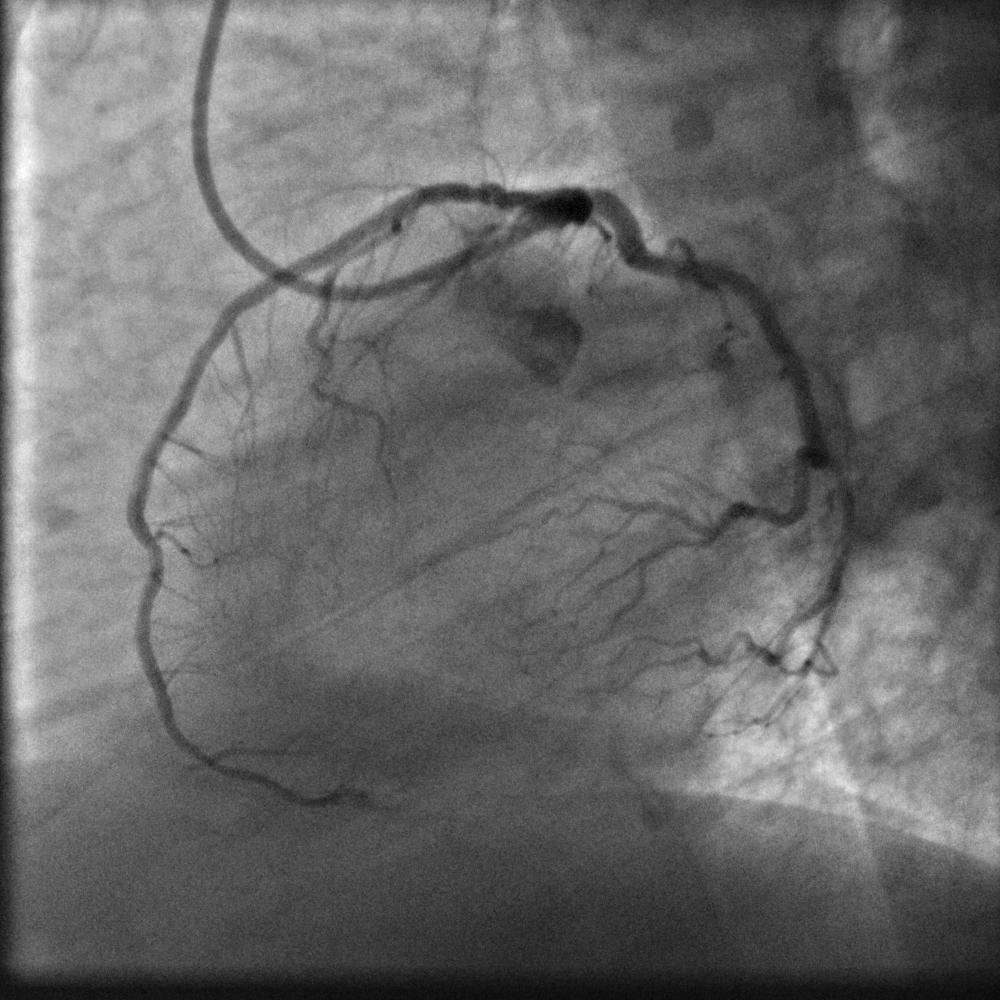Stenosis: (462, 181, 504, 209)
